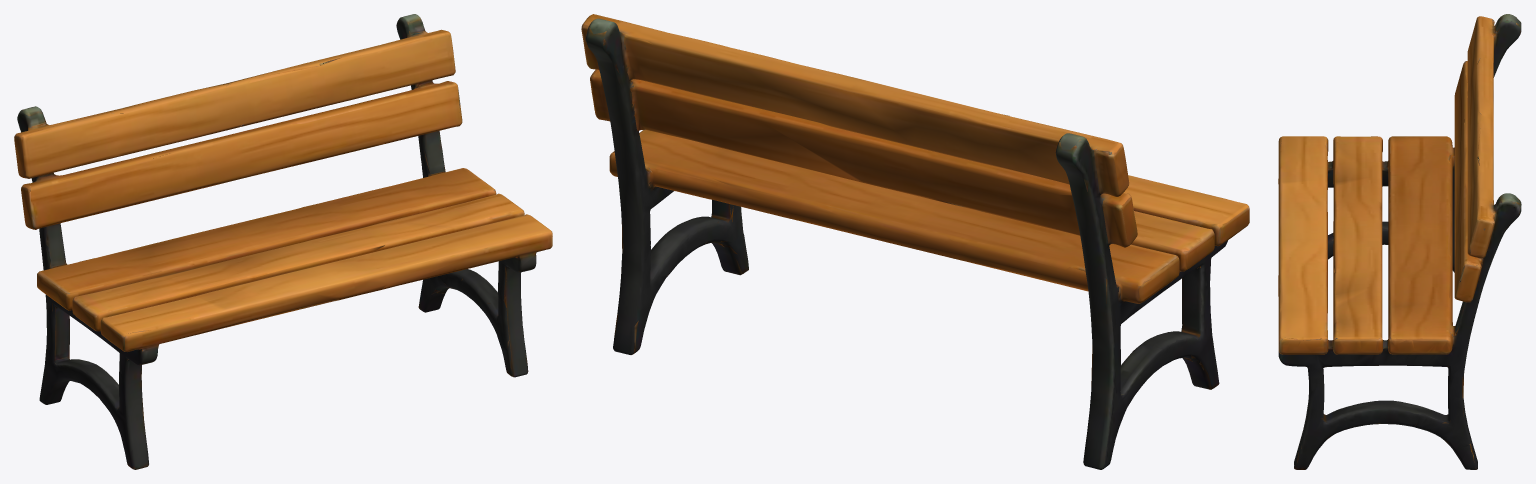
Rendered from decor_bench.glb.
3 renders of one model, left to right at view 1: azimuth 30°, elevation 25°; view 2: azimuth 150°, elevation 25°; view 3: azimuth 270°, elevation 25°, orthographic. The views are drawn at different scales.
Parts seen in each view (by area): view 1: Mesh_0; view 2: Mesh_0; view 3: Mesh_0.
Part boxes in pixels (<box>): Mesh_0: <box>14,14,552,469</box>; Mesh_0: <box>581,14,1249,469</box>; Mesh_0: <box>1278,14,1521,469</box>.
Size of the model in its own units: 1.91 by 1.19 by 0.9658.
1 material, 1 textured.
